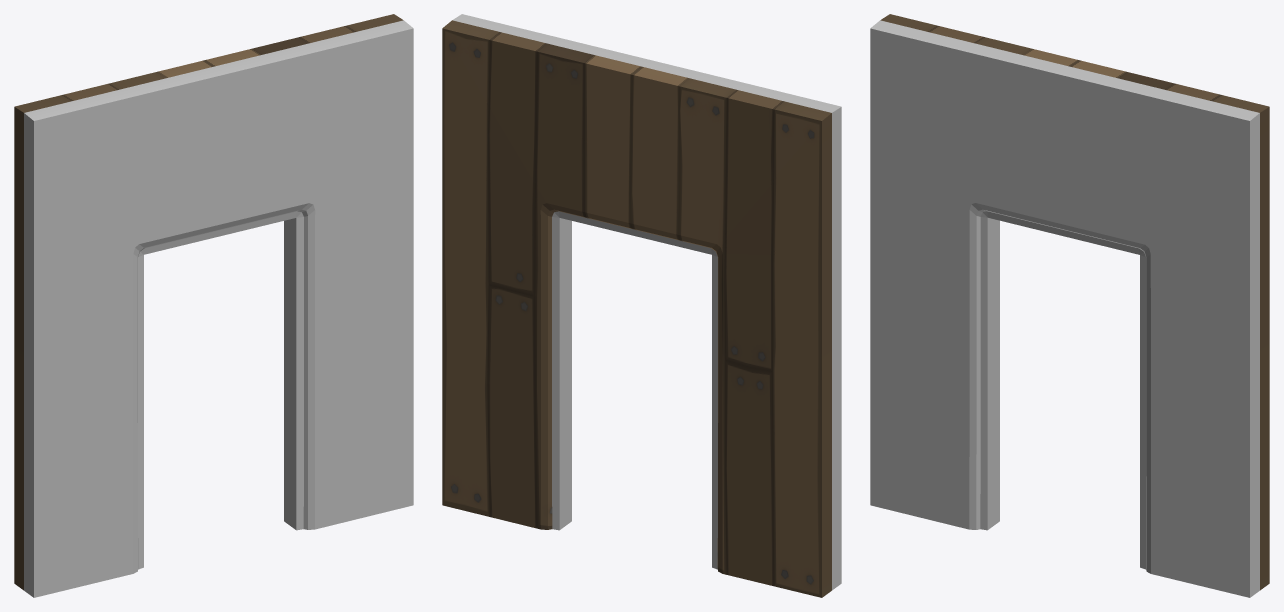
File: SM_Bld_Deco_Wall_Door_04.fbx
3 renders of one model, left to right at view 1: azimuth 30°, elevation 25°; view 2: azimuth 150°, elevation 25°; view 3: azimuth 330°, elevation 25°, orthographic.
Visible parts, largest first — view 1: SM_Bld_Deco_Wall_Door_04; view 2: SM_Bld_Deco_Wall_Door_04; view 3: SM_Bld_Deco_Wall_Door_04.
Boxes of the visible parts, x1=… form: SM_Bld_Deco_Wall_Door_04: x1=14, y1=14, x2=413, y2=597; SM_Bld_Deco_Wall_Door_04: x1=442, y1=14, x2=841, y2=597; SM_Bld_Deco_Wall_Door_04: x1=870, y1=14, x2=1269, y2=597.
Bounding box in the file's own units: 250 × 301 × 23.21.
